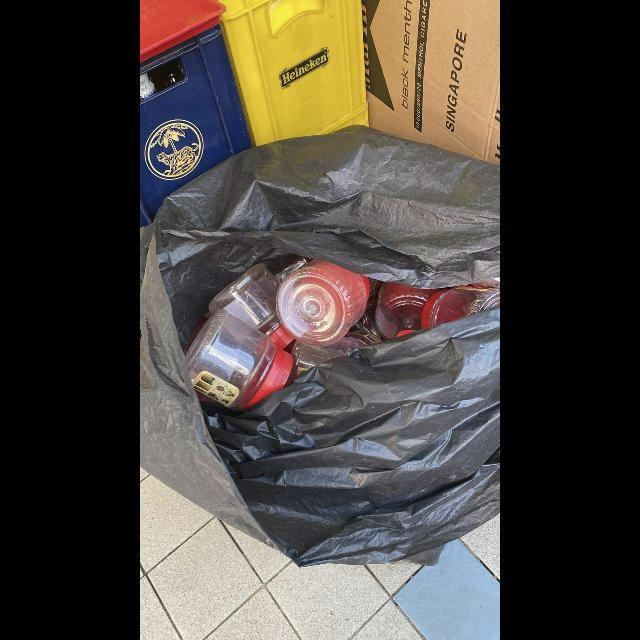plastic_container: (184, 309, 294, 409), (209, 262, 295, 362), (275, 258, 370, 348), (374, 282, 443, 340), (422, 285, 500, 328)
